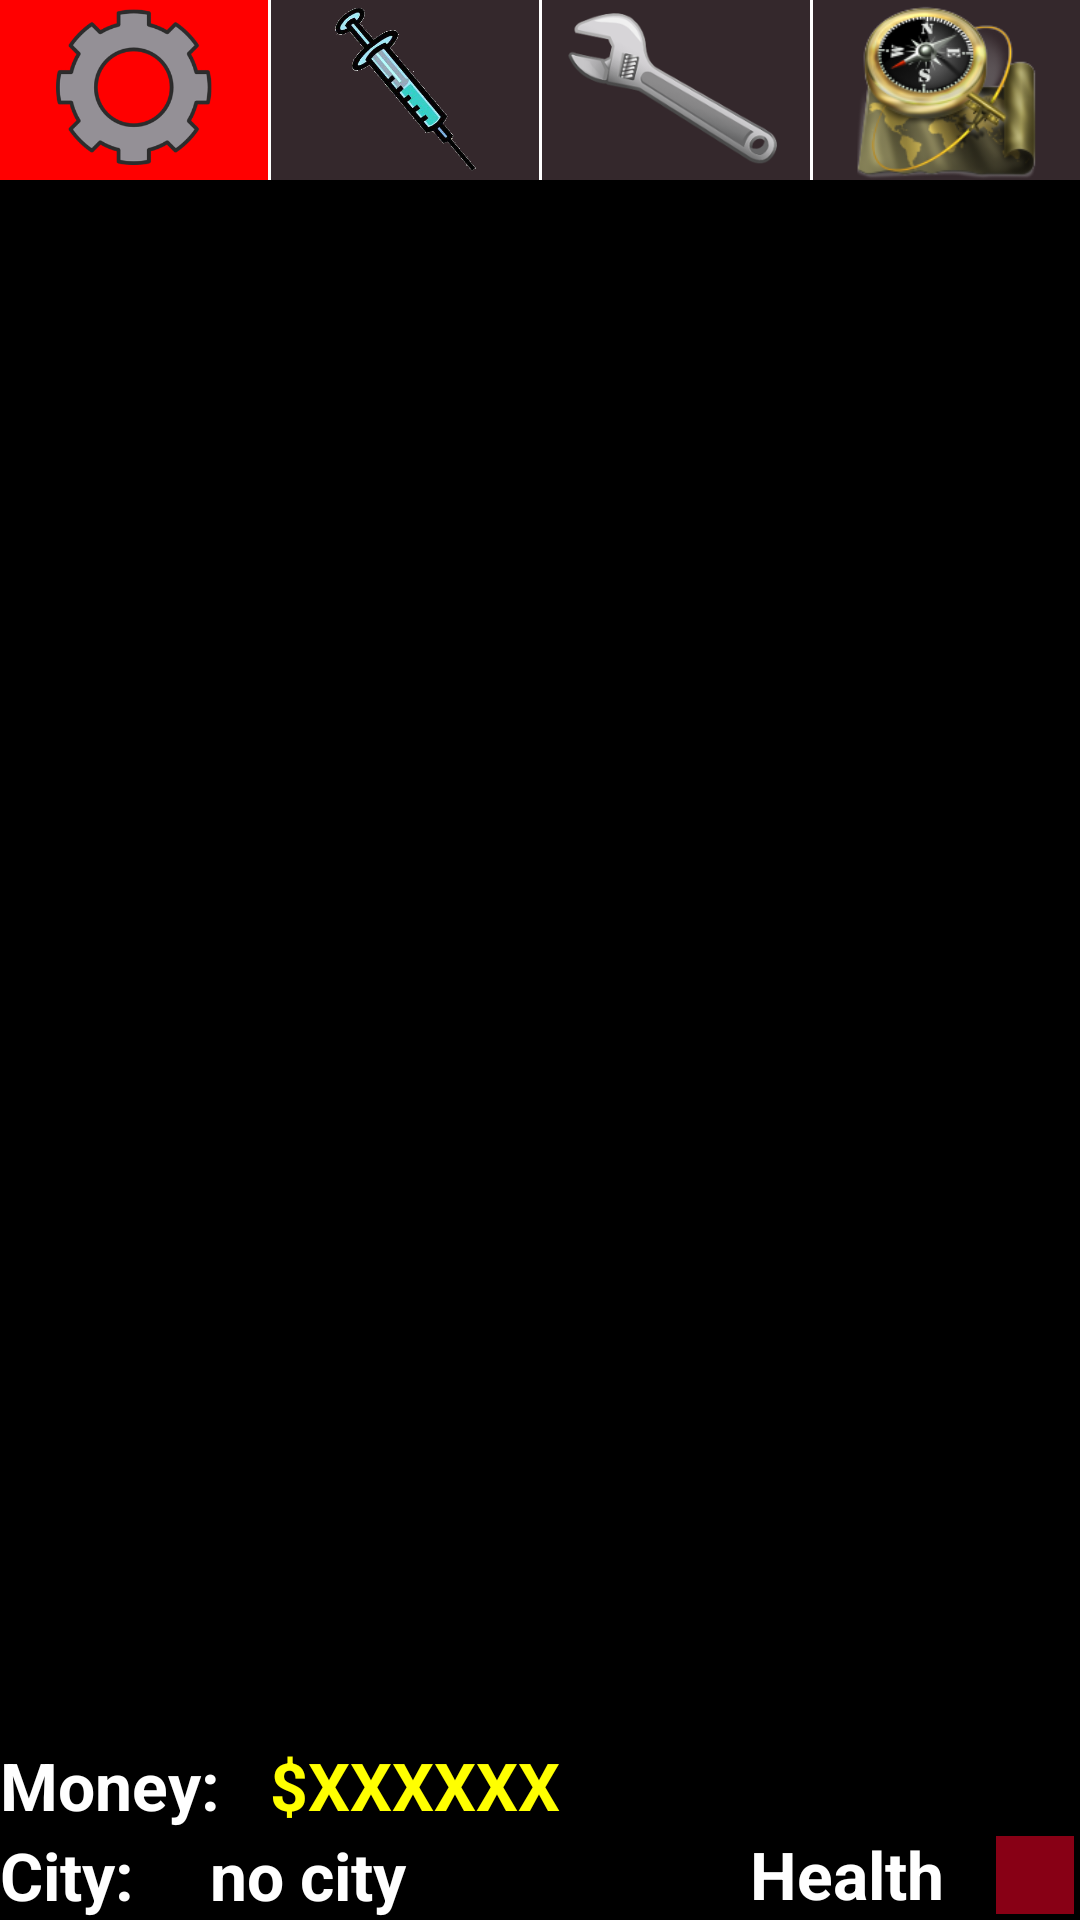

Screen size 1080px x 1920px. Icon name, then its center in pixels as [x,y]:
gear: [134,90]
map: [946,90]
syringe: [405,90]
wrench: [673,88]
